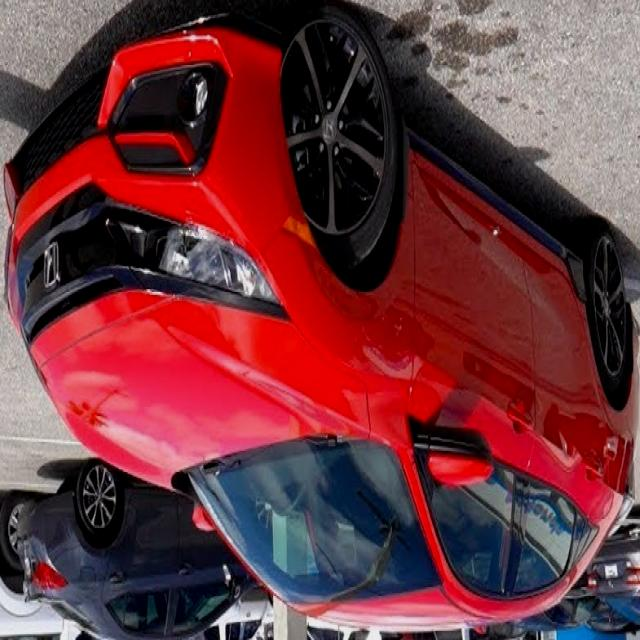red: (0, 27, 627, 615)
